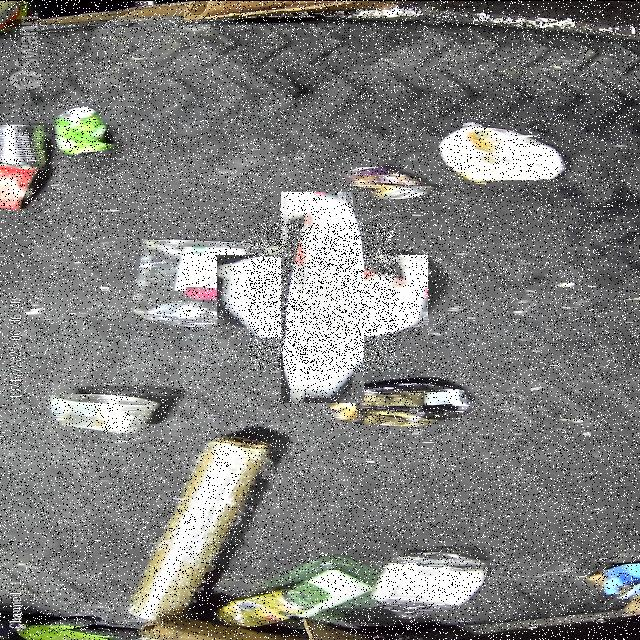milk-jug: (249, 222, 396, 370)
